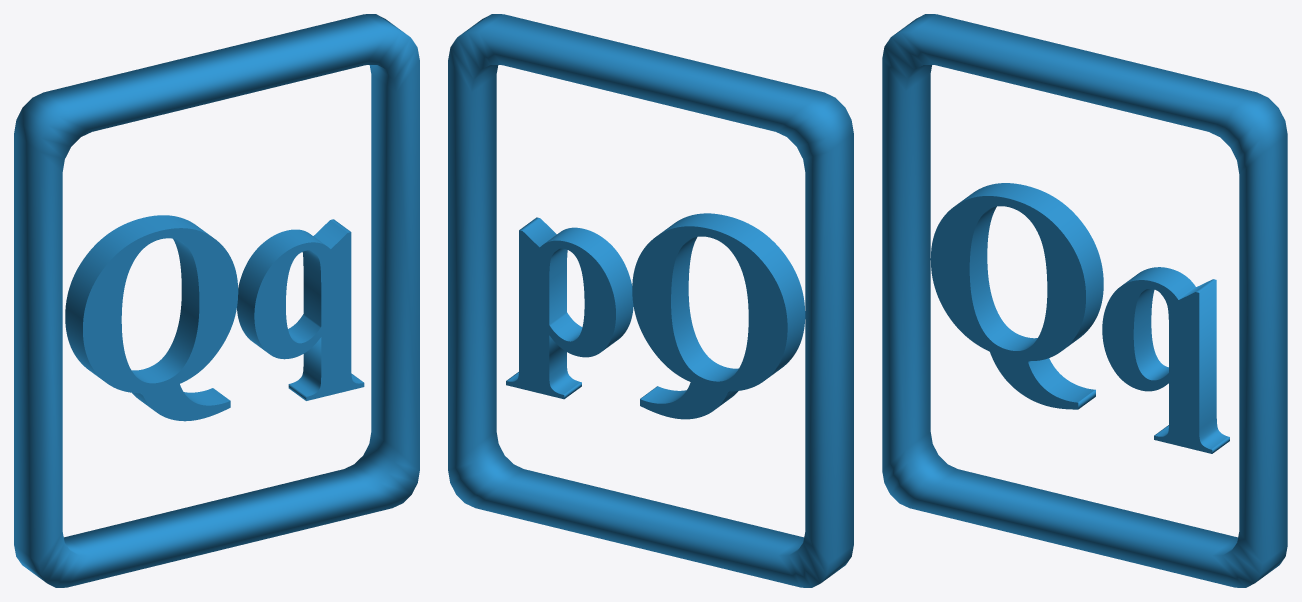
File: Letter_Q.gltf
The picture shows the model from 3 angles, left to right: view 1: azimuth 30°, elevation 25°; view 2: azimuth 150°, elevation 25°; view 3: azimuth 330°, elevation 25°; orthographic projection.
Visible parts, largest first — view 1: Letters.018; view 2: Letters.018; view 3: Letters.018.
Part boxes in pixels (x1,y1,x2,y2): Letters.018: (14, 14, 419, 587); Letters.018: (448, 14, 853, 587); Letters.018: (882, 14, 1287, 587).
Size of the model in its own units: 1.25 by 1.49 by 0.1418.
